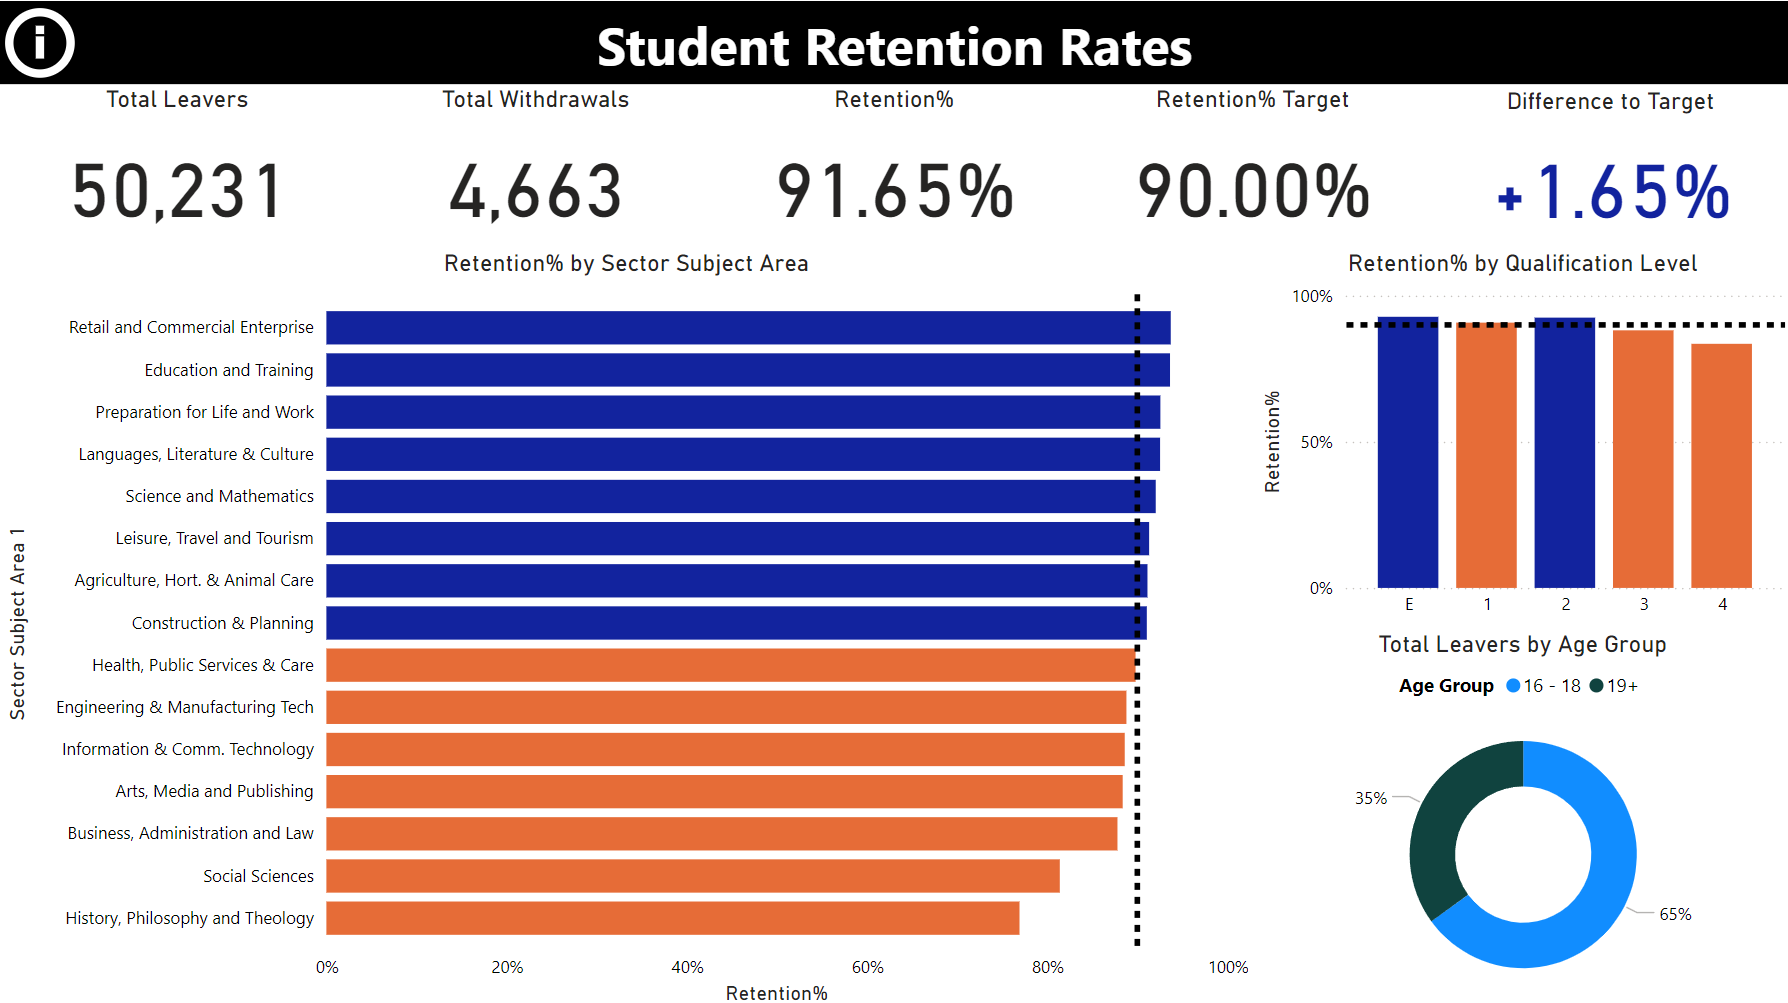

The dashboard page shown, as its layout file describes it:
{"tool":"powerbi","page":{"name":"Student Retention Rates","canvas":[1280,720],"ordinal":1},"visuals":[{"type":"donutChart","title":"Total Leavers by Age Group","fields":{"Category":["QAR Data.Age Group"],"Y":["Sum(QAR Data.Leavers)"]},"box":[895.9,448.5,384.3,271.9],"z":0},{"type":"clusteredBarChart","title":"Retention% by Sector Subject Area","fields":{"Category":["QAR Data.Sector Subject Area.Sector Subject Area 1","QAR Data.Sector Subject Area.Sector Subject Area 2"],"Y":["Measures (2).Retention%"]},"box":[0,176.6,897,543.8],"z":500},{"type":"card","title":"Difference to Target","fields":{"Values":["Measures (2).RetentionDiffToKPI"]},"box":[1023.3,61,254.8,115.6],"z":1000},{"type":"card","title":"Retention% Target","fields":{"Values":["Measures (2).RetentionKPI"]},"box":[767.5,59.9,255.8,116.7],"z":3000},{"type":"card","title":"Retention%","fields":{"Values":["Measures (2).Retention%"]},"box":[511.6,59.9,255.8,116.7],"z":4000},{"type":"card","title":"Total Withdrawals","fields":{"Values":["Sum(QAR Data.Withdrawn)"]},"box":[255.8,59.9,255.8,116.7],"z":5000},{"type":"card","title":"Total Leavers","fields":{"Values":["Sum(QAR Data.Leavers)"]},"box":[0,59.9,255.8,116.7],"z":6000},{"type":"columnChart","title":"Retention% by Qualification Level","fields":{"Category":["Qual Level Sort.Qualification Level"],"Y":["Measures (2).Retention%"]},"box":[895.9,176.6,384.3,271.9],"z":7000},{"type":"textbox","title":"Title","box":[0,0,1280,59.3],"z":12000},{"type":"actionButton","box":[0,0,61.1,59.8],"z":12500}]}

Visuals, with their boxes in screenshot pixels (x1, y1, x2, y2), scaled from the page's 1280x720 canvas onto the 1788x1003 screenshot:
"Total Leavers by Age Group" donutChart: box(1251, 625, 1787, 1002)
"Retention% by Sector Subject Area" clusteredBarChart: box(0, 246, 1253, 1002)
"Difference to Target" card: box(1429, 85, 1785, 246)
"Retention% Target" card: box(1072, 83, 1429, 246)
"Retention%" card: box(715, 83, 1072, 246)
"Total Withdrawals" card: box(357, 83, 715, 246)
"Total Leavers" card: box(0, 83, 357, 246)
"Retention% by Qualification Level" columnChart: box(1251, 246, 1787, 625)
"Title" textbox: box(0, 0, 1787, 83)
actionButton: box(0, 0, 85, 83)
